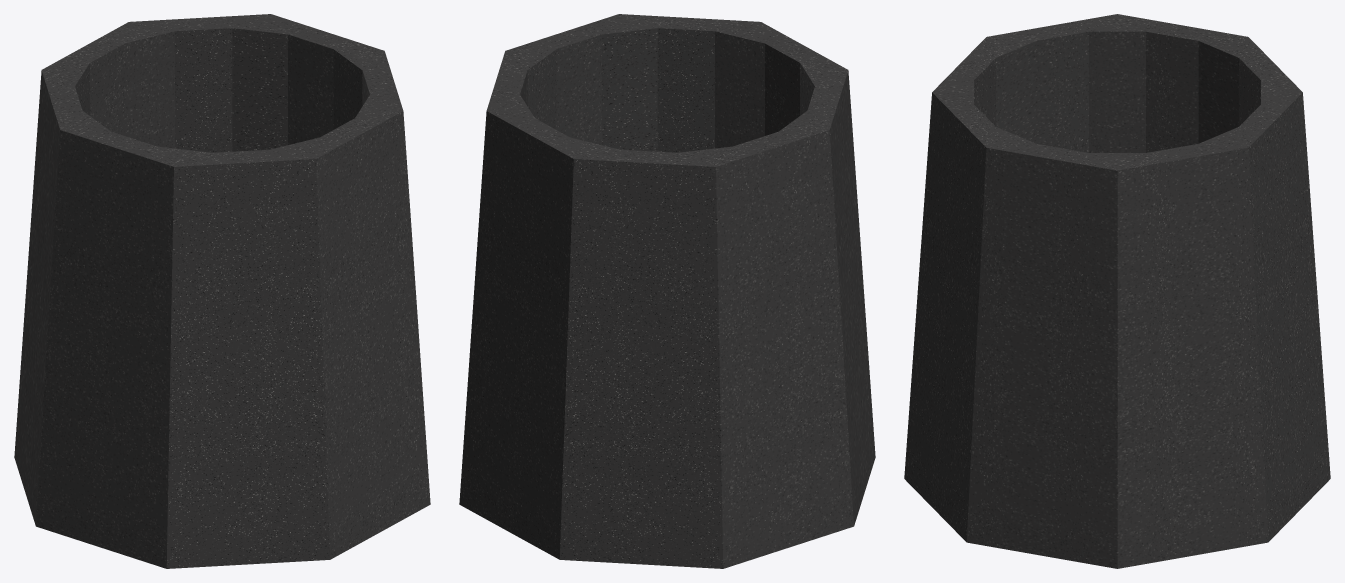
Rendered from Model_Kosz.fbx.
3 views of the same model, side by side, from view 1: azimuth 30°, elevation 25°; view 2: azimuth 150°, elevation 25°; view 3: azimuth 270°, elevation 25° (orthographic).
Visible parts, largest first — view 1: Cylinder; view 2: Cylinder; view 3: Cylinder.
Boxes of the visible parts, x1,y1,x2,y2 form: Cylinder: [14, 14, 430, 568]; Cylinder: [459, 14, 875, 568]; Cylinder: [904, 14, 1330, 568].
Size of the model in its own units: 58.01 by 58.01 by 58.01.
